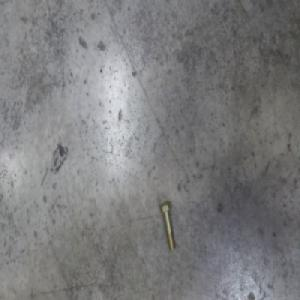Bolt: (158, 200, 175, 252)
